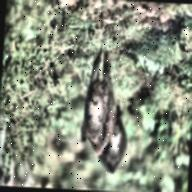boar: (60, 62, 126, 172)
